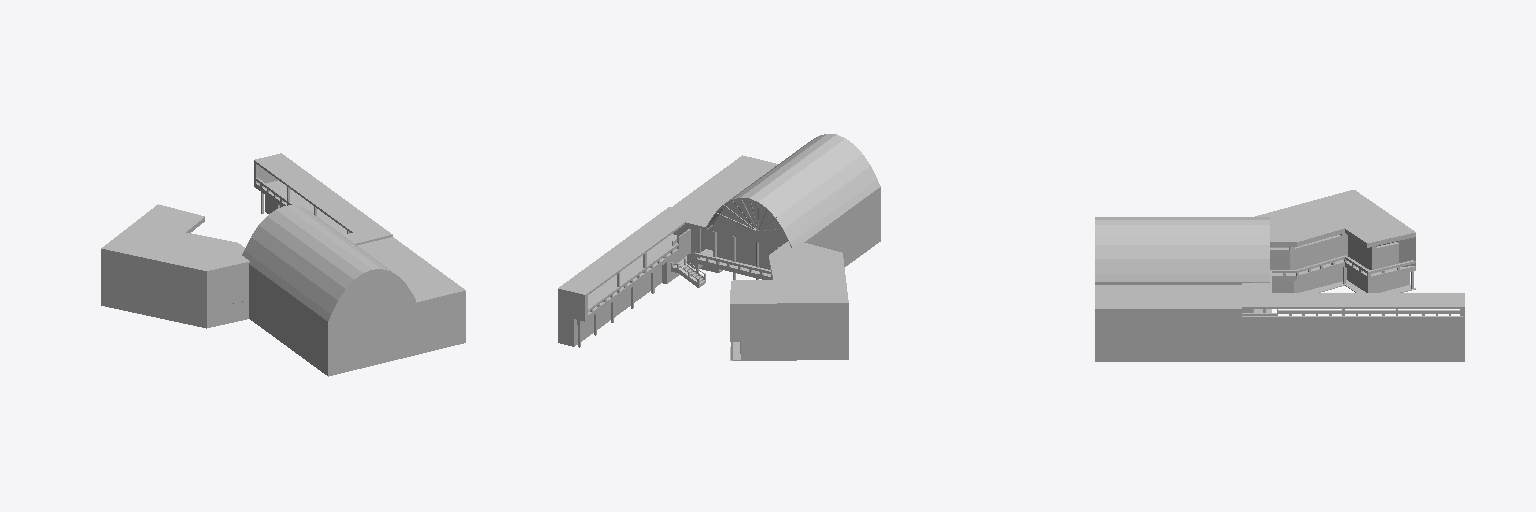
The model's file is malacatanmonopoly.obj.
3 views of the same model, side by side, from view 1: azimuth 30°, elevation 25°; view 2: azimuth 150°, elevation 25°; view 3: azimuth 270°, elevation 25° (orthographic).
Parts seen in each view (by area): view 1: Benson; view 2: Benson; view 3: Benson.
Boxes of the visible parts, box(x1,y1,x2,y2) form: Benson: box(101, 153, 465, 376); Benson: box(558, 134, 880, 360); Benson: box(1095, 190, 1464, 361).
Bounding box in the file's own units: 3.16 × 1.23 × 4.29.